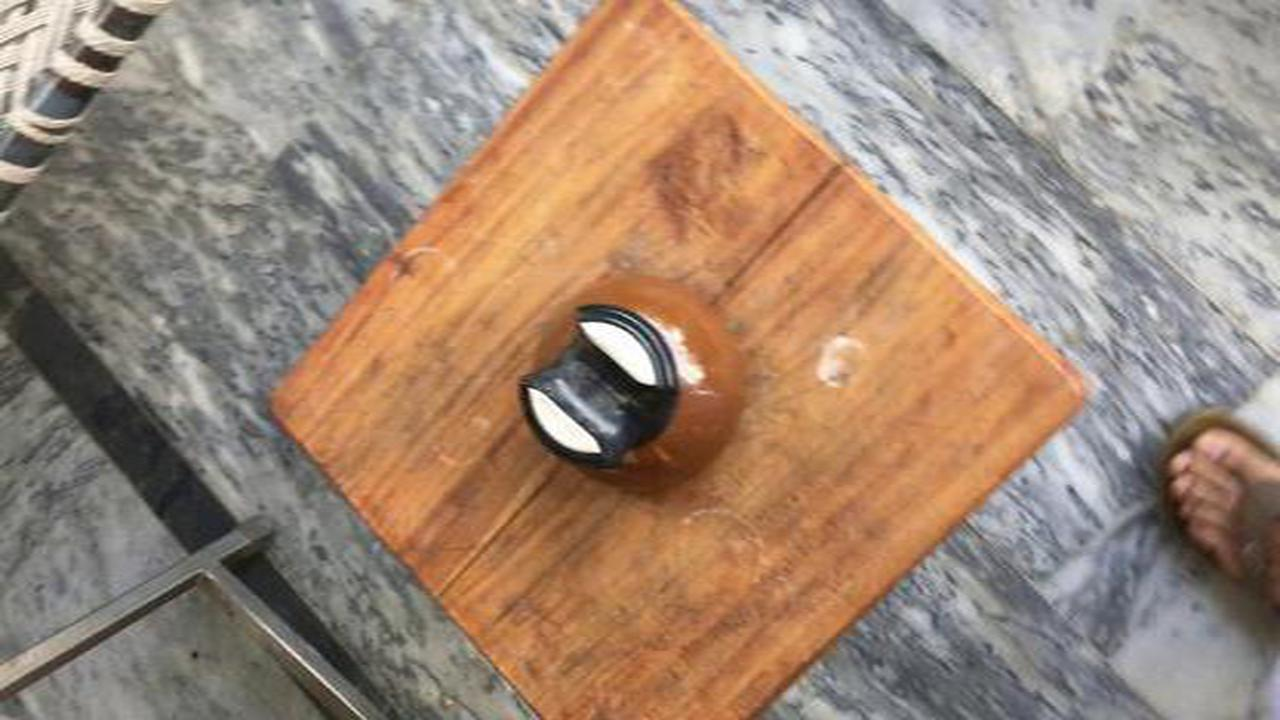insulator_pin: (477, 262, 797, 509)
